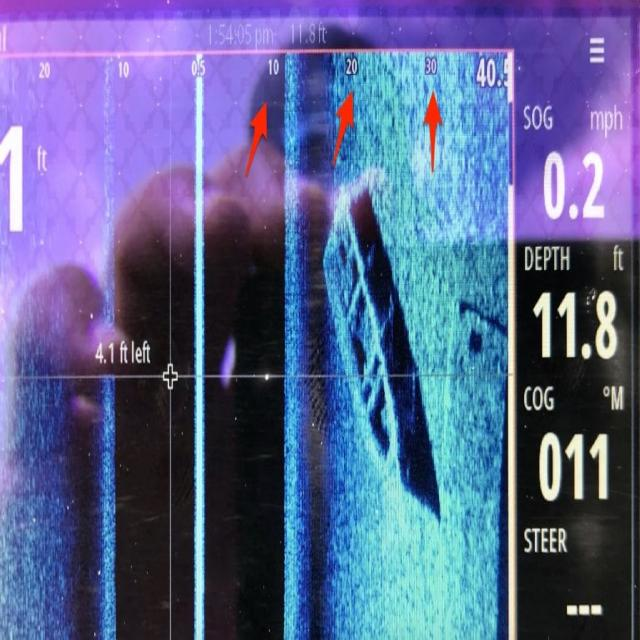ship: (319, 193, 403, 491)
